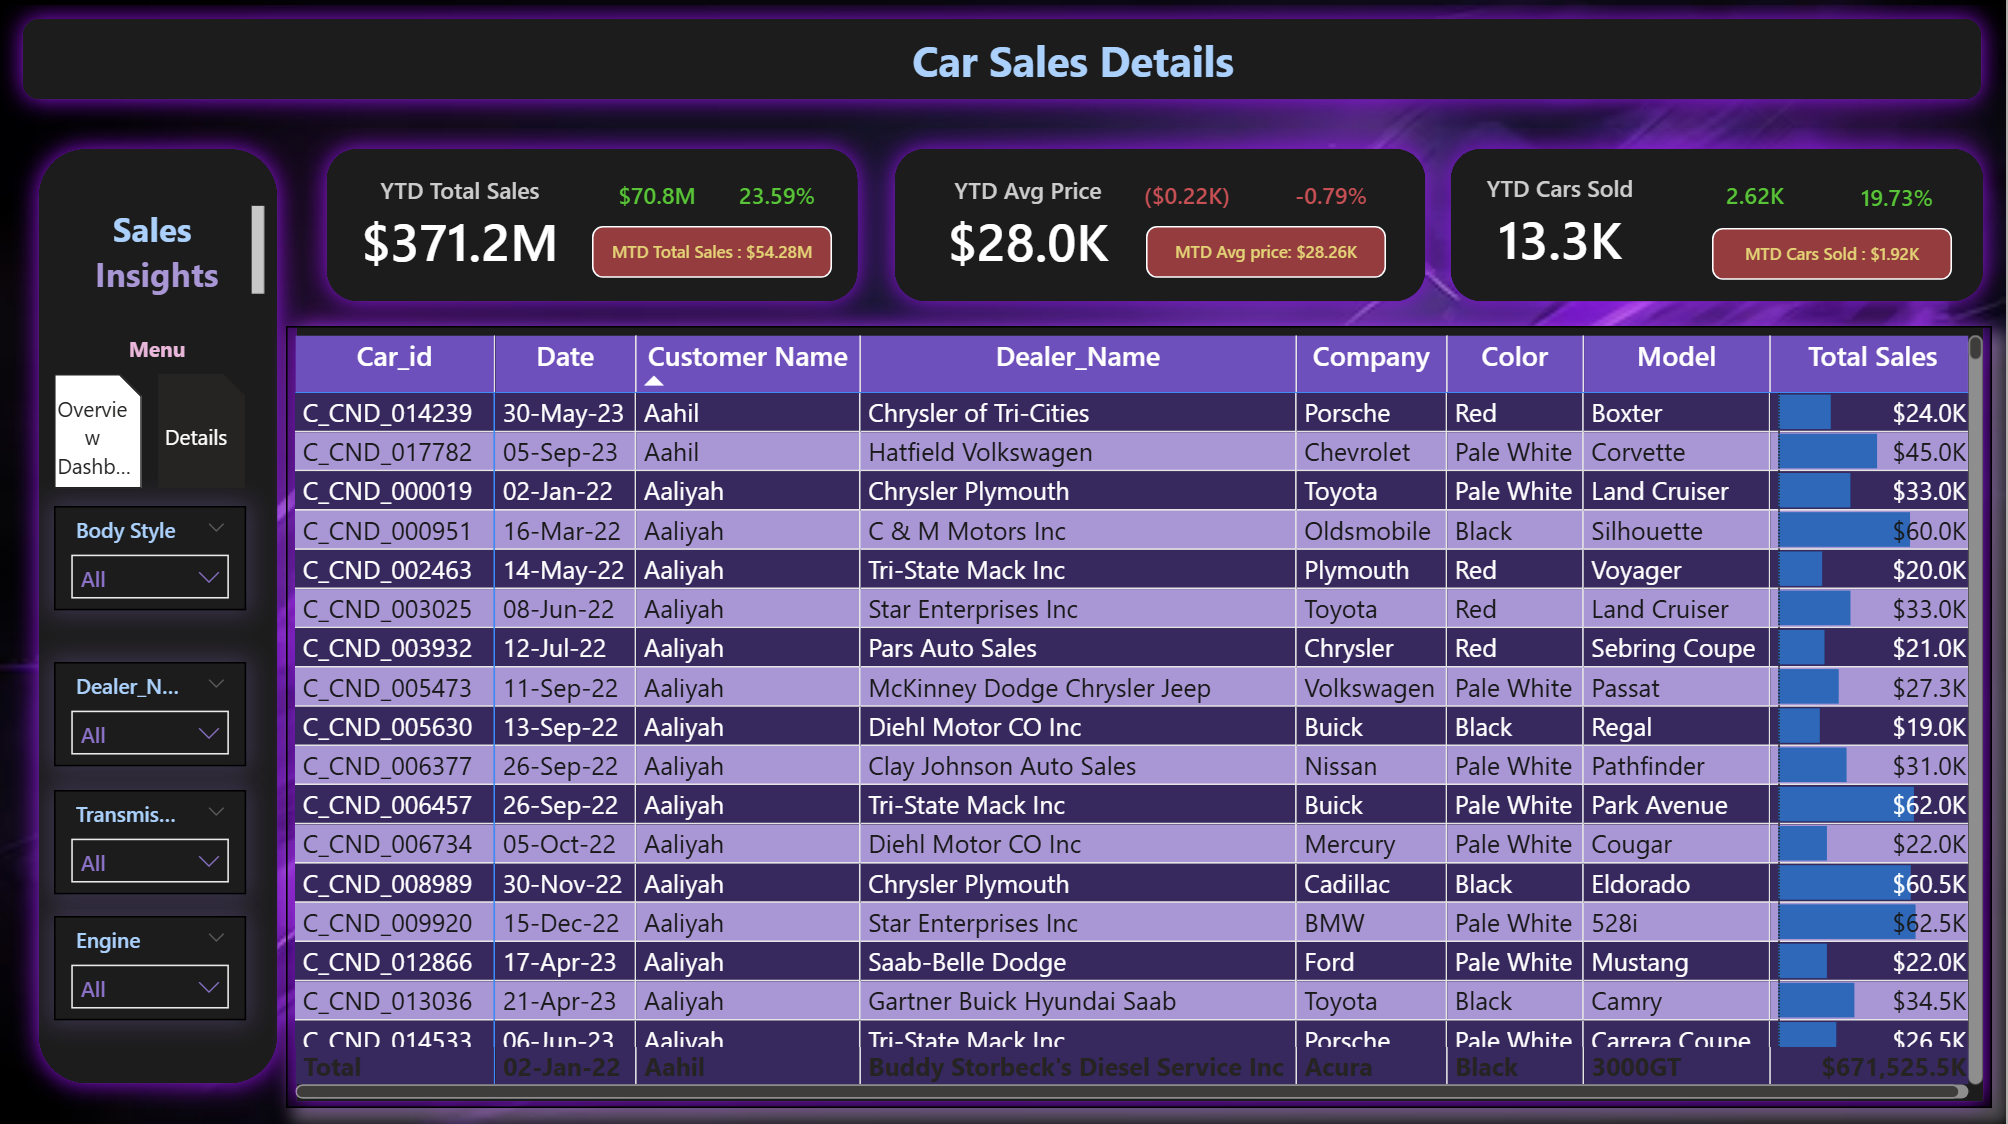

This screenshot's page, from the dashboard's own definition file:
{"tool":"powerbi","page":{"name":"Details","canvas":[1280,720],"ordinal":1},"visuals":[{"type":"shape","box":[10.2,82.9,183.6,627.3],"z":0},{"type":"shape","box":[193.8,82.9,370,128.8],"z":1000},{"type":"shape","box":[555.9,82.9,369.7,128.8],"z":2000},{"type":"shape","box":[910.3,82.9,371,128.8],"z":3000},{"type":"shape","box":[0,0,1280,82.9],"z":4000},{"type":"card","title":"YTD Total Sales","fields":{"Values":["car_data.YTD Total Sales"]},"box":[193.8,114.7,201.4,66.3],"z":5000},{"type":"card","fields":{"Values":["car_data.Sales Difference"]},"box":[385,113.5,70.1,34.4],"z":6000},{"type":"card","fields":{"Values":["car_data.YOY Sales Growth"]},"box":[461.5,113.5,70.1,34.4],"z":7000},{"type":"card","fields":{"Values":["car_data.MTD KPI"]},"box":[378.6,147.9,153,33.1],"z":8000},{"type":"card","title":"YTD Avg Price","fields":{"Values":["car_data.YTD Avg Price"]},"box":[555.9,114.7,201.4,66.3],"z":9000},{"type":"card","fields":{"Values":["car_data.Avg Price Diff"]},"box":[722.9,113.5,70.1,34.4],"z":10000},{"type":"card","fields":{"Values":["car_data.YOY Avg Price growth"]},"box":[814.7,113.5,70.1,34.4],"z":11000},{"type":"card","fields":{"Values":["car_data.MTD Avg Price KPI"]},"box":[731.8,147.9,153,33.1],"z":12000},{"type":"card","title":"YTD Cars Sold","fields":{"Values":["car_data.YTD Cars Sold"]},"box":[895,113.5,201.4,66.3],"z":13000},{"type":"card","fields":{"Values":["car_data.Cars Sold Diff"]},"box":[1084.9,113.5,70.1,34.4],"z":14000},{"type":"card","fields":{"Values":["car_data.YOY Car Sold Growth"]},"box":[1175.5,114.7,70.1,34.4],"z":15000},{"type":"card","fields":{"Values":["car_data.MTD Cars Solds KPI"]},"box":[1092.6,149.2,153,33.1],"z":16000},{"type":"shape","box":[174.7,196.3,1106.6,525.3],"z":17000},{"type":"textbox","box":[420.7,19.1,529.1,45.9],"z":27000},{"type":"slicer","fields":{"Values":["car_data.Body Style"]},"box":[35.7,326.4,122.4,66.3],"z":28000},{"type":"slicer","fields":{"Values":["car_data.Dealer_Name"]},"box":[35.7,425.8,122.4,66.3],"z":29000},{"type":"slicer","fields":{"Values":["car_data.Transmission"]},"box":[35.7,507.4,122.4,66.3],"z":30000},{"type":"slicer","fields":{"Values":["car_data.Engine"]},"box":[35.7,587.7,122.4,66.3],"z":31000},{"type":"textbox","box":[35.7,130,139,66.3],"z":32000},{"type":"textbox","box":[44.6,211.6,113.5,30.6],"z":33000},{"type":"pivotTable","fields":{"Values":["car_data.Date","car_data.Customer Name","car_data.Dealer_Name","car_data.Company","car_data.Color","car_data.Model","car_data.Total Sales"],"Rows":["car_data.Car_id"]},"box":[183.6,211.6,1087.5,498.5],"z":33001},{"type":"pageNavigator","box":[35.7,242.2,122.4,73.9],"z":33002}]}

Visuals, with their boxes in screenshot pixels (x1, y1, x2, y2), scaled from the page's 1280x720 canvas onto the 2008x1124 screenshot:
shape: left=16, top=129, right=304, bottom=1109
shape: left=304, top=129, right=884, bottom=330
shape: left=872, top=129, right=1452, bottom=330
shape: left=1428, top=129, right=2007, bottom=330
shape: left=0, top=0, right=2007, bottom=129
"YTD Total Sales" card: left=304, top=179, right=620, bottom=283
card - car_data.Sales Difference: left=604, top=177, right=714, bottom=231
card - car_data.YOY Sales Growth: left=724, top=177, right=834, bottom=231
card - car_data.MTD KPI: left=594, top=231, right=834, bottom=283
"YTD Avg Price" card: left=872, top=179, right=1188, bottom=283
card - car_data.Avg Price Diff: left=1134, top=177, right=1244, bottom=231
card - car_data.YOY Avg Price growth: left=1278, top=177, right=1388, bottom=231
card - car_data.MTD Avg Price KPI: left=1148, top=231, right=1388, bottom=283
"YTD Cars Sold" card: left=1404, top=177, right=1720, bottom=281
card - car_data.Cars Sold Diff: left=1702, top=177, right=1812, bottom=231
card - car_data.YOY Car Sold Growth: left=1844, top=179, right=1954, bottom=233
card - car_data.MTD Cars Solds KPI: left=1714, top=233, right=1954, bottom=285
shape: left=274, top=306, right=2007, bottom=1123
textbox: left=660, top=30, right=1490, bottom=101
slicer - car_data.Body Style: left=56, top=510, right=248, bottom=613
slicer - car_data.Dealer_Name: left=56, top=665, right=248, bottom=768
slicer - car_data.Transmission: left=56, top=792, right=248, bottom=896
slicer - car_data.Engine: left=56, top=917, right=248, bottom=1021
textbox: left=56, top=203, right=274, bottom=306
textbox: left=70, top=330, right=248, bottom=378
pivotTable - car_data.Date x car_data.Customer Name: left=288, top=330, right=1994, bottom=1109
pageNavigator: left=56, top=378, right=248, bottom=493
